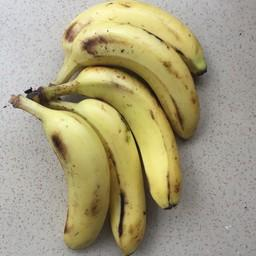Banana Ripe: (54, 26, 193, 219), (33, 20, 206, 146), (20, 92, 116, 256), (35, 0, 227, 75)
